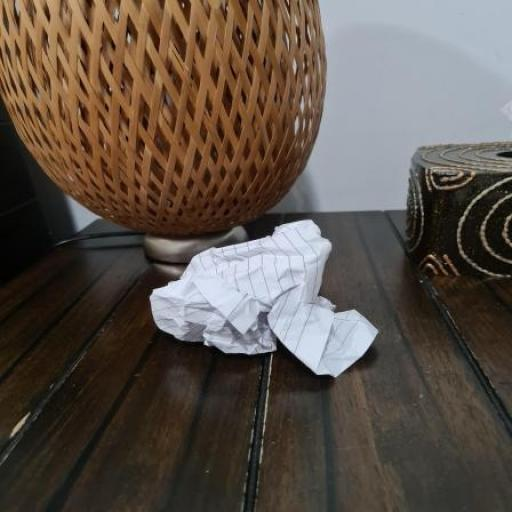paper: (142, 213, 376, 377)
